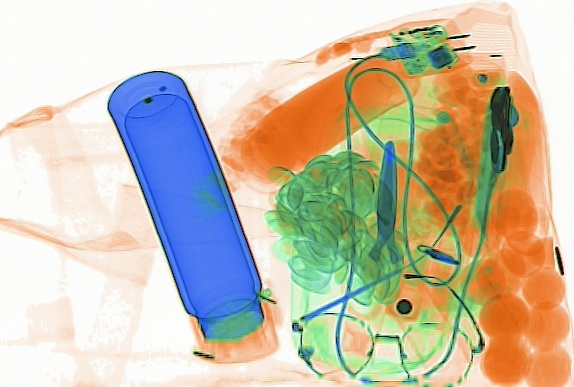scissors: (337, 138, 427, 321)
